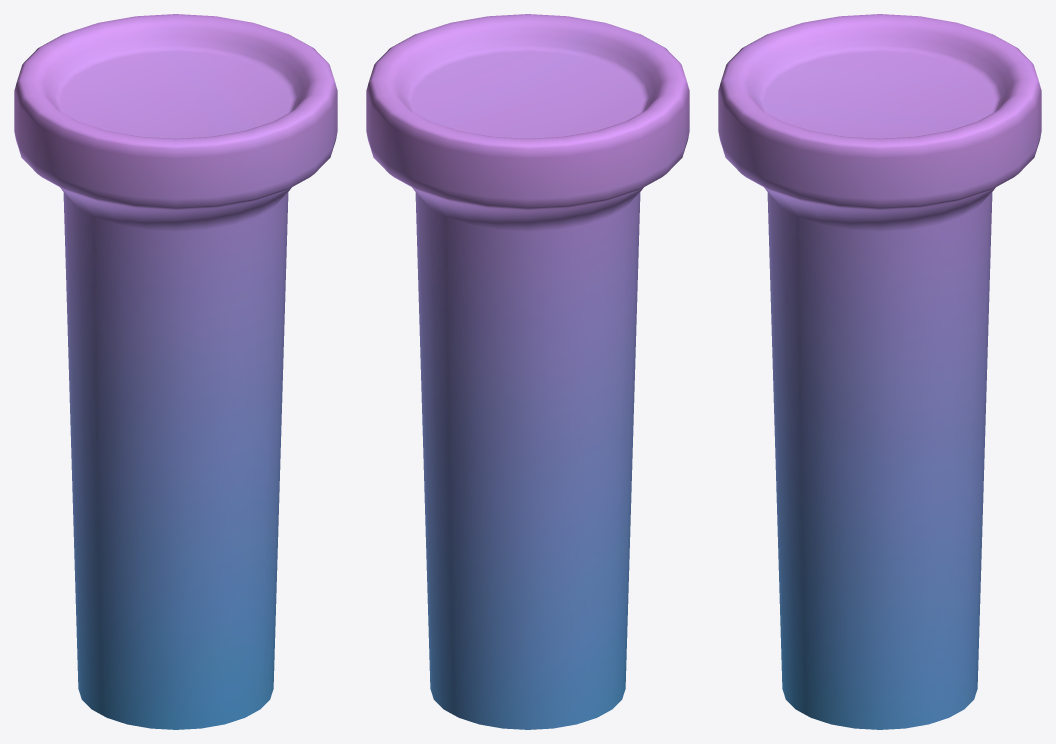
The model's file is Platform001.fbx.
3 renders of one model, left to right at view 1: azimuth 30°, elevation 25°; view 2: azimuth 150°, elevation 25°; view 3: azimuth 270°, elevation 25°, orthographic.
Parts seen in each view (by area): view 1: Platform; view 2: Platform; view 3: Platform.
Boxes of the visible parts, <box> form: Platform: <box>14,14,337,729</box>; Platform: <box>366,14,689,729</box>; Platform: <box>718,14,1041,729</box>.
Size of the model in its own units: 154 by 321 by 154.
